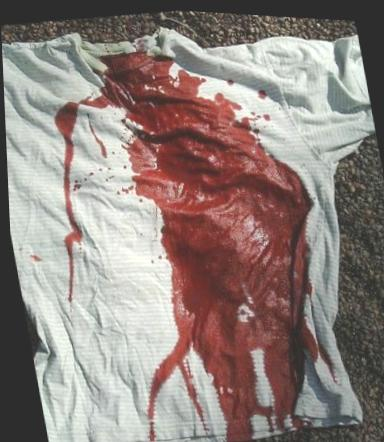Fire: (53, 49, 315, 439), (53, 100, 80, 302), (174, 357, 203, 432), (199, 57, 250, 82), (88, 120, 106, 155), (249, 79, 270, 99), (143, 407, 152, 442), (261, 109, 270, 121)
